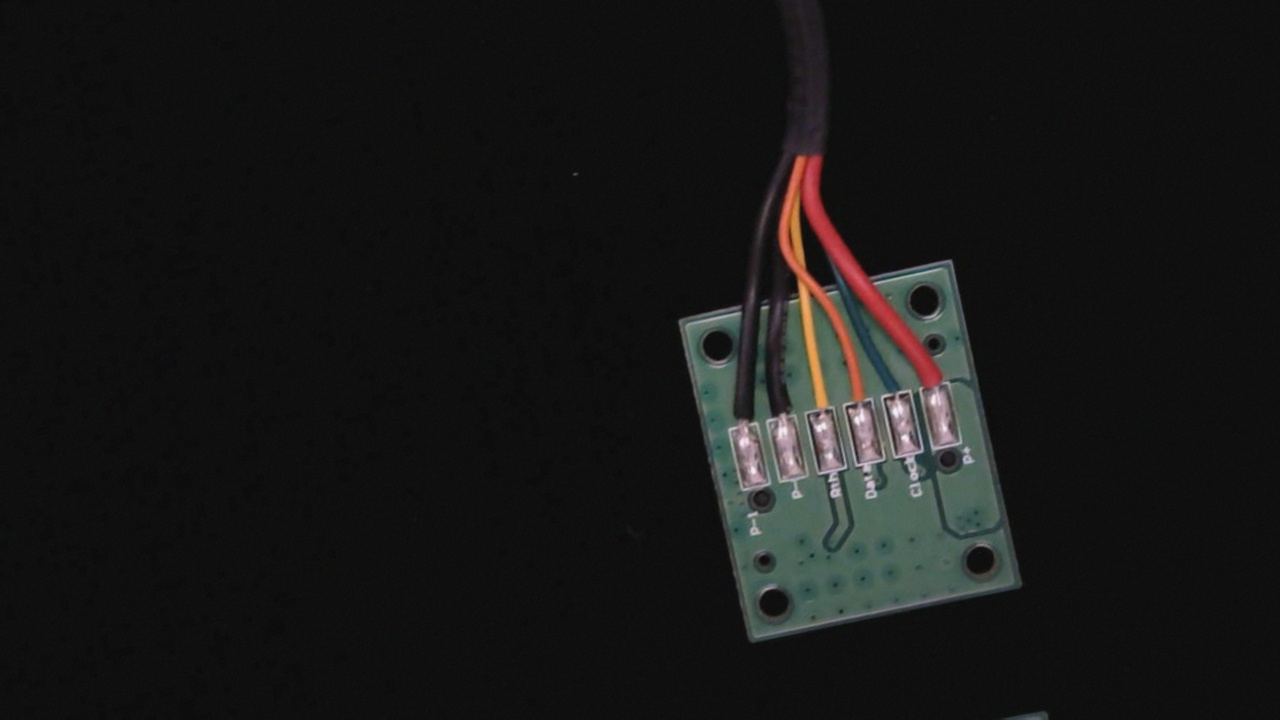Black: (754, 358, 802, 436)
Black1: (716, 373, 761, 445)
Green: (870, 350, 914, 416)
Orange: (832, 346, 877, 423)
Red: (907, 338, 953, 409)
Yellow: (791, 351, 839, 430)
